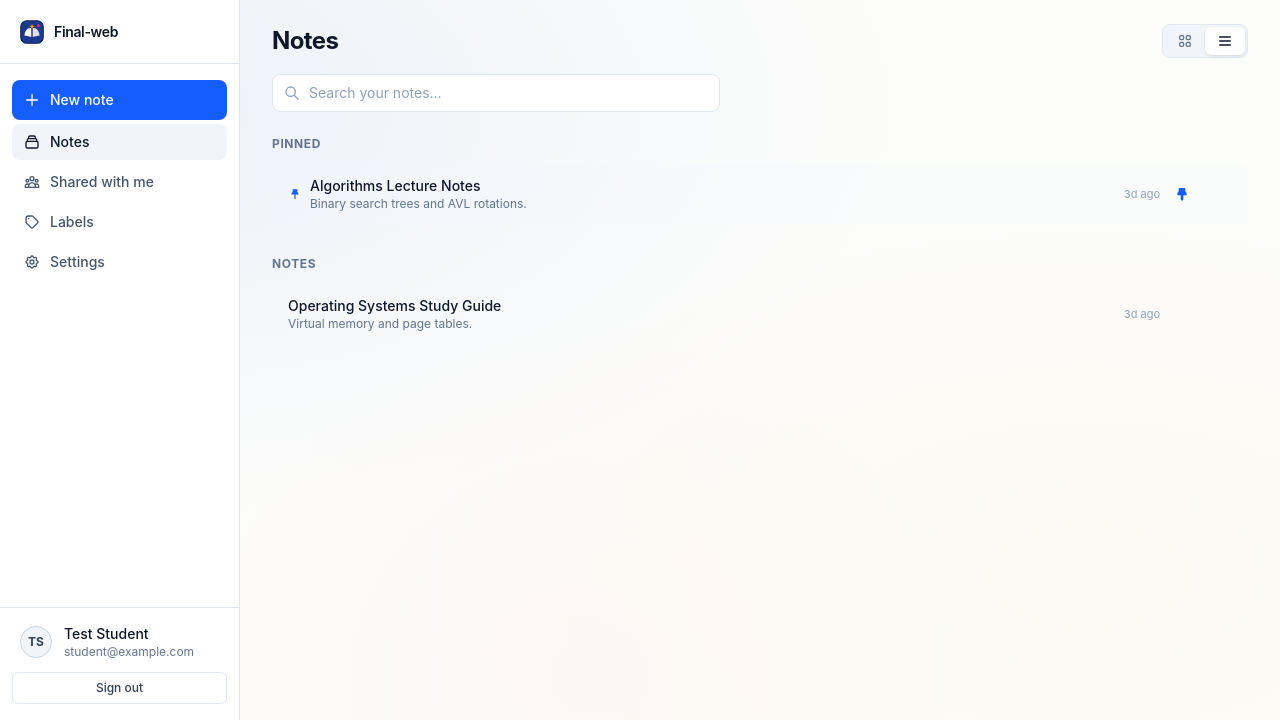
Test: NOTE-06 Note Pinning Tests › List pin action toggles pinned note to unpinned
Expected: the number of buttons with test id "note-row" is 2, [272, 164, 1248, 224]; [288, 297, 1160, 331]
Step 1. Click the button named "Unpin Algorithms Lecture Notes" → (1182, 194), box [1168, 180, 1196, 208]
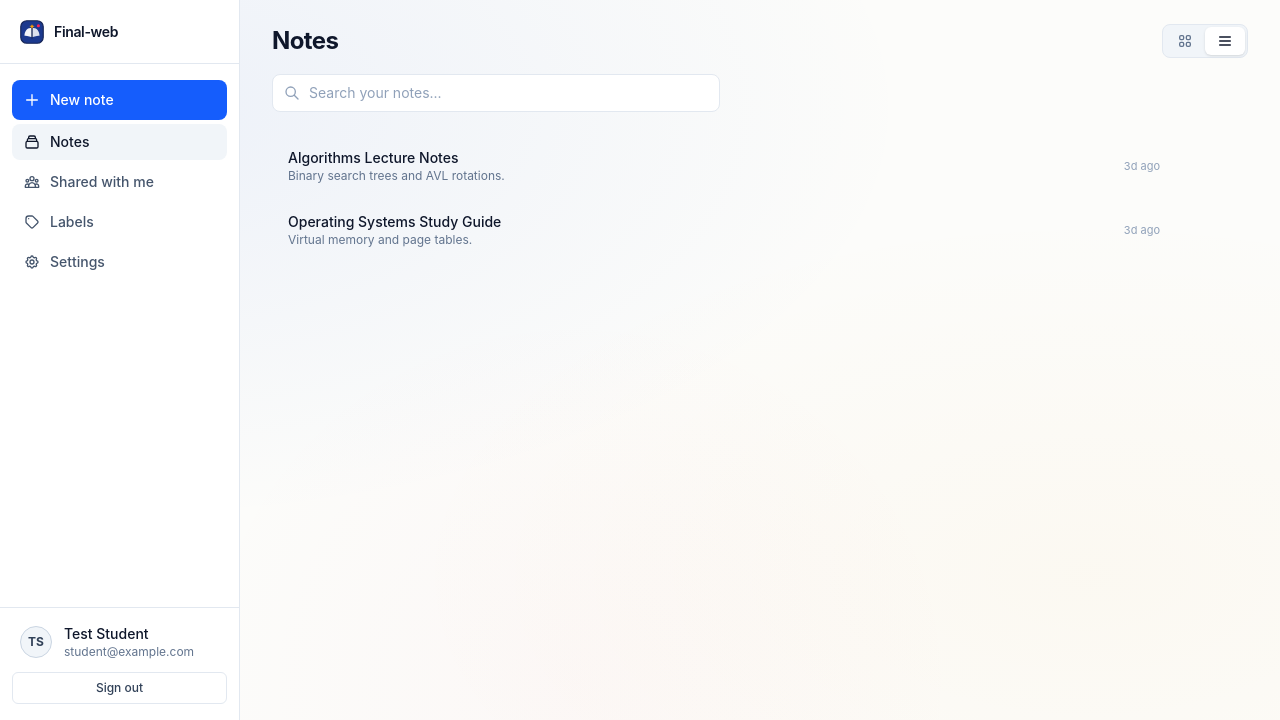
Now the element with test id "notes-section" shows "Algorithms Lecture Notes", box [288, 149, 458, 166]
